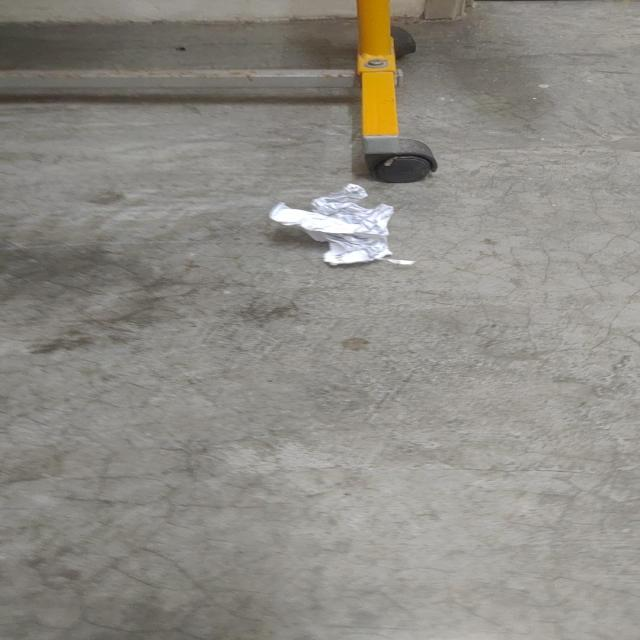paper: (265, 179, 423, 273)
